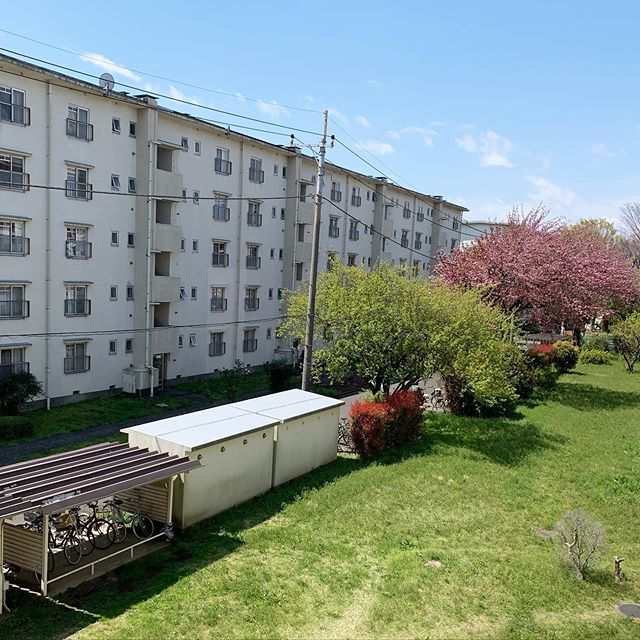bicicle: (66, 501, 161, 553), (33, 515, 93, 565)
building: (1, 59, 480, 390)
grass: (118, 387, 620, 640)
sky: (1, 1, 627, 212)
tree: (290, 268, 494, 445), (463, 224, 629, 393)
